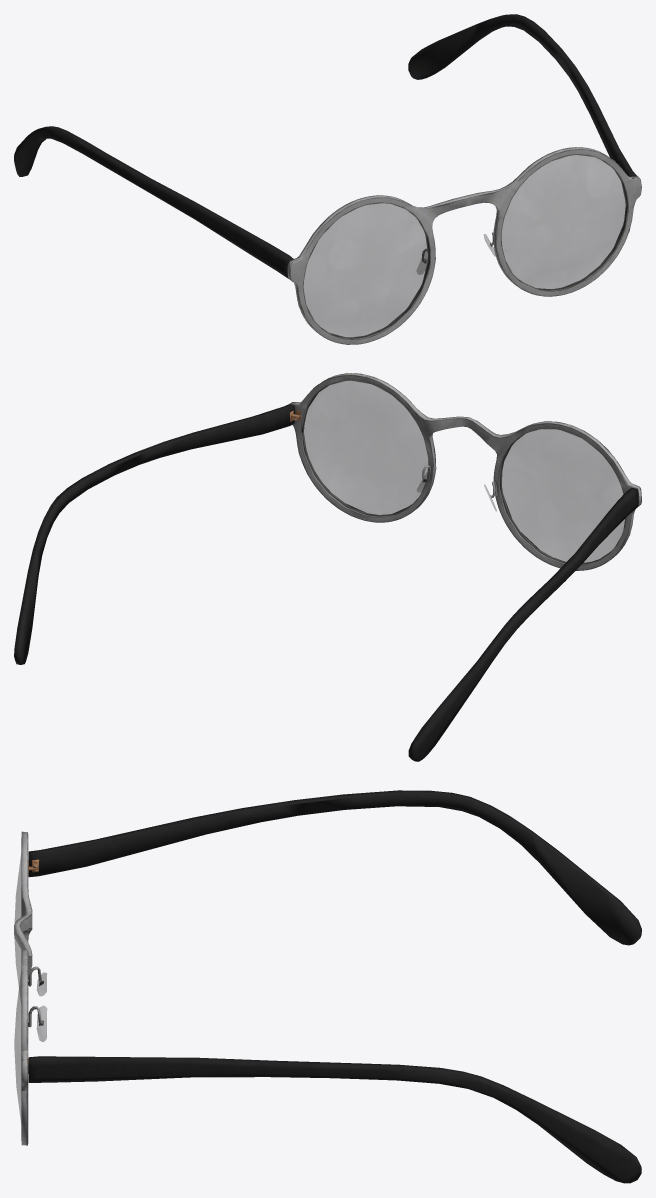
File: round_spectacles.glb
The picture shows the model from 3 angles, top to bottom: view 1: azimuth 30°, elevation 25°; view 2: azimuth 150°, elevation 25°; view 3: azimuth 270°, elevation 25°; orthographic projection. The views are drawn at different scales.
Parts seen in each view (by area): view 1: round_spectacles; view 2: round_spectacles; view 3: round_spectacles.
Boxes of the visible parts, bbox=[...] form: round_spectacles: bbox=[14, 14, 641, 344]; round_spectacles: bbox=[14, 373, 641, 761]; round_spectacles: bbox=[14, 790, 641, 1183].
Bounding box in the file's own units: 0.158 × 0.0464 × 0.1489.
Materials: 2 (2 with a texture image).
